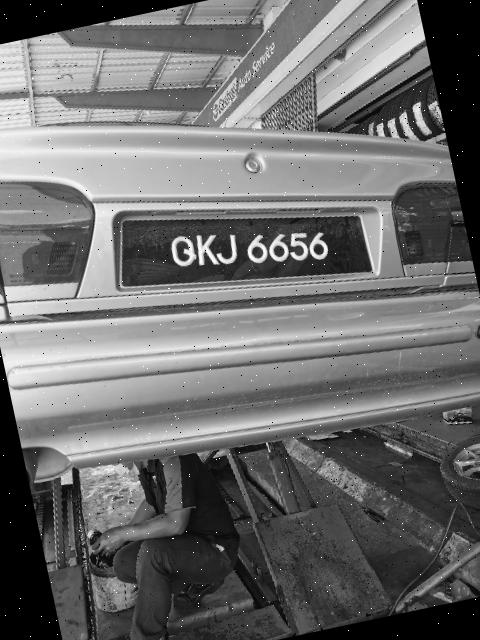License_Plate: (116, 172, 374, 328)
car: (1, 13, 480, 502)
